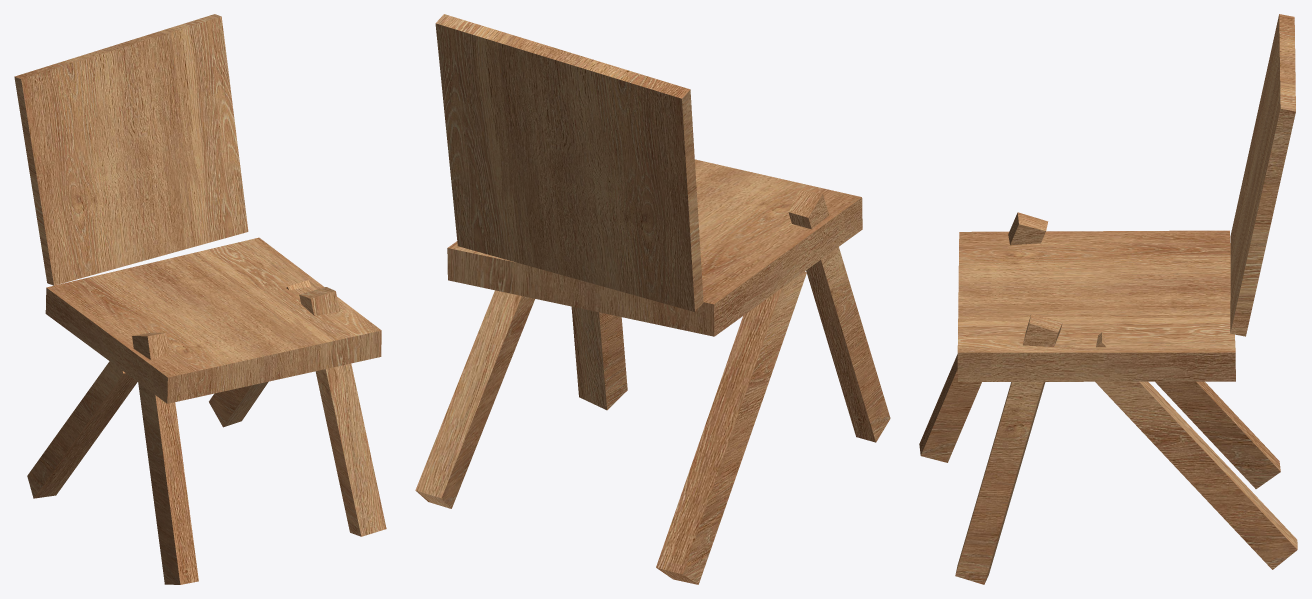
The model's file is 2360_ours.glb.
3 renders of one model, left to right at view 1: azimuth 30°, elevation 25°; view 2: azimuth 150°, elevation 25°; view 3: azimuth 270°, elevation 25°, orthographic. The views are drawn at different scales.
Visible parts, largest first — view 1: ParentEmpty; view 2: ParentEmpty; view 3: ParentEmpty.
Boxes of the visible parts, box(x1,y1,x2,y2) form: ParentEmpty: box(14, 14, 386, 584); ParentEmpty: box(415, 14, 890, 584); ParentEmpty: box(919, 14, 1297, 584).
Bounding box in the file's own units: 0.557 × 1 × 0.7191.
Materials: 1 (1 with a texture image).
